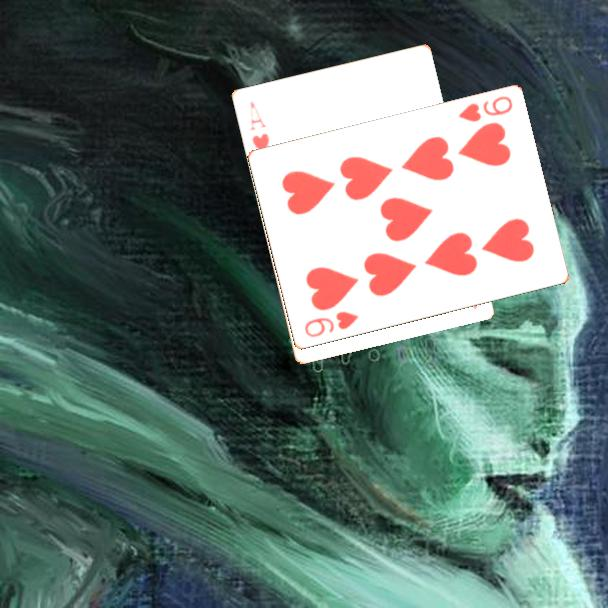h01: (246, 97, 272, 157)
h09: (301, 308, 361, 341), (454, 93, 515, 125)
